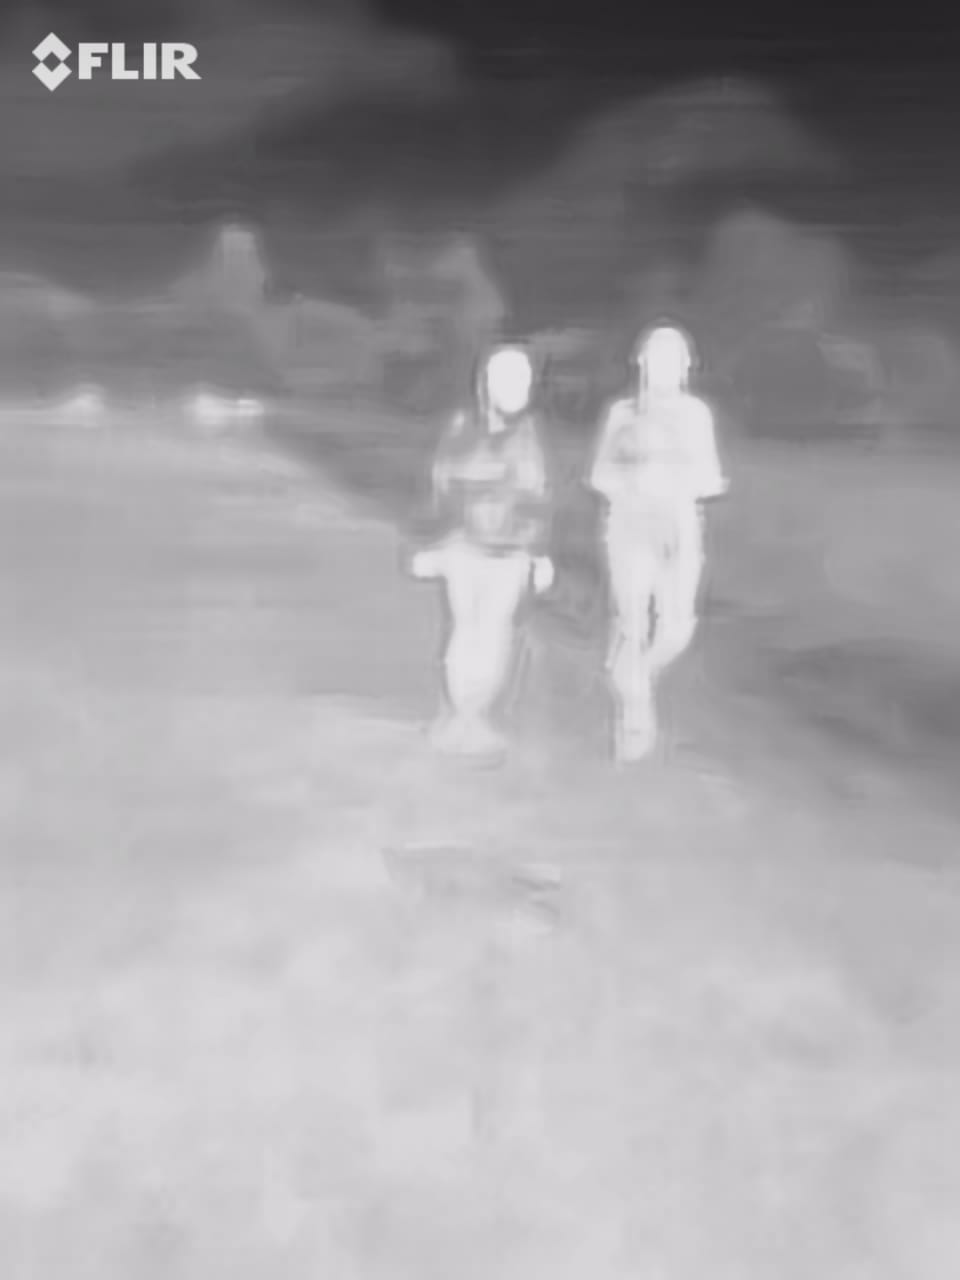head: (617, 315, 707, 411)
